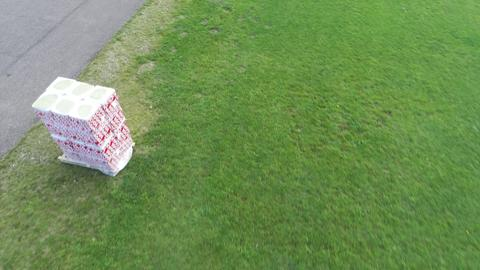RockwoolPallet: (31, 76, 134, 173)
